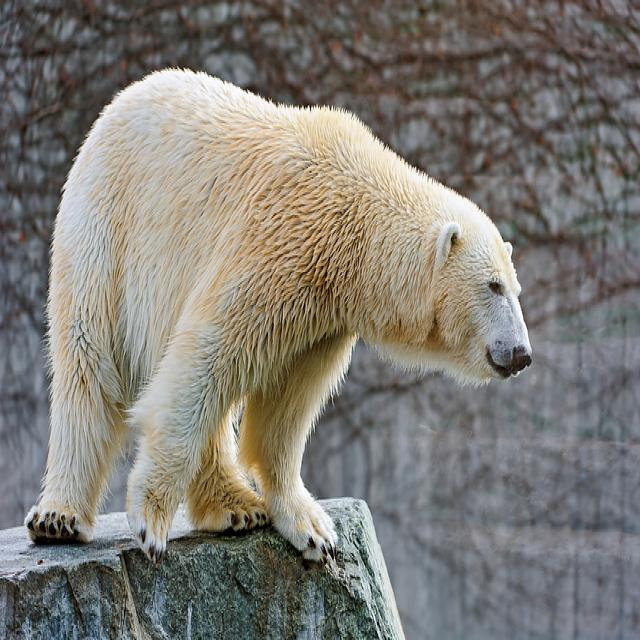Bear: (35, 51, 532, 586)
